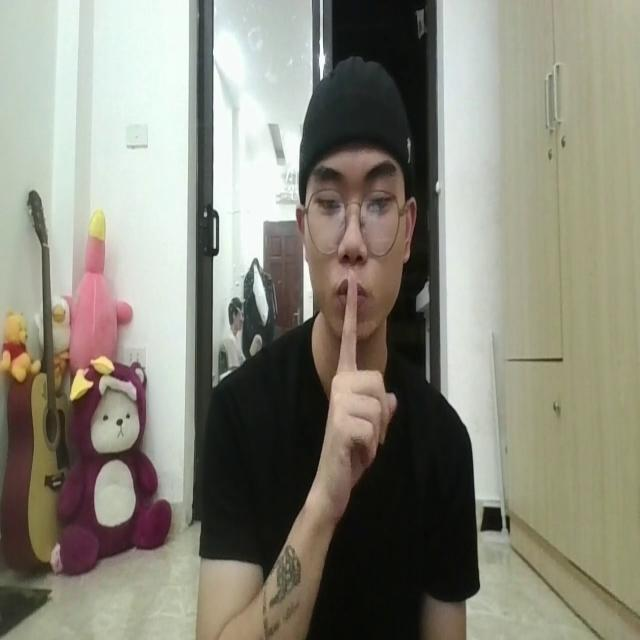student: (204, 49, 480, 640)
